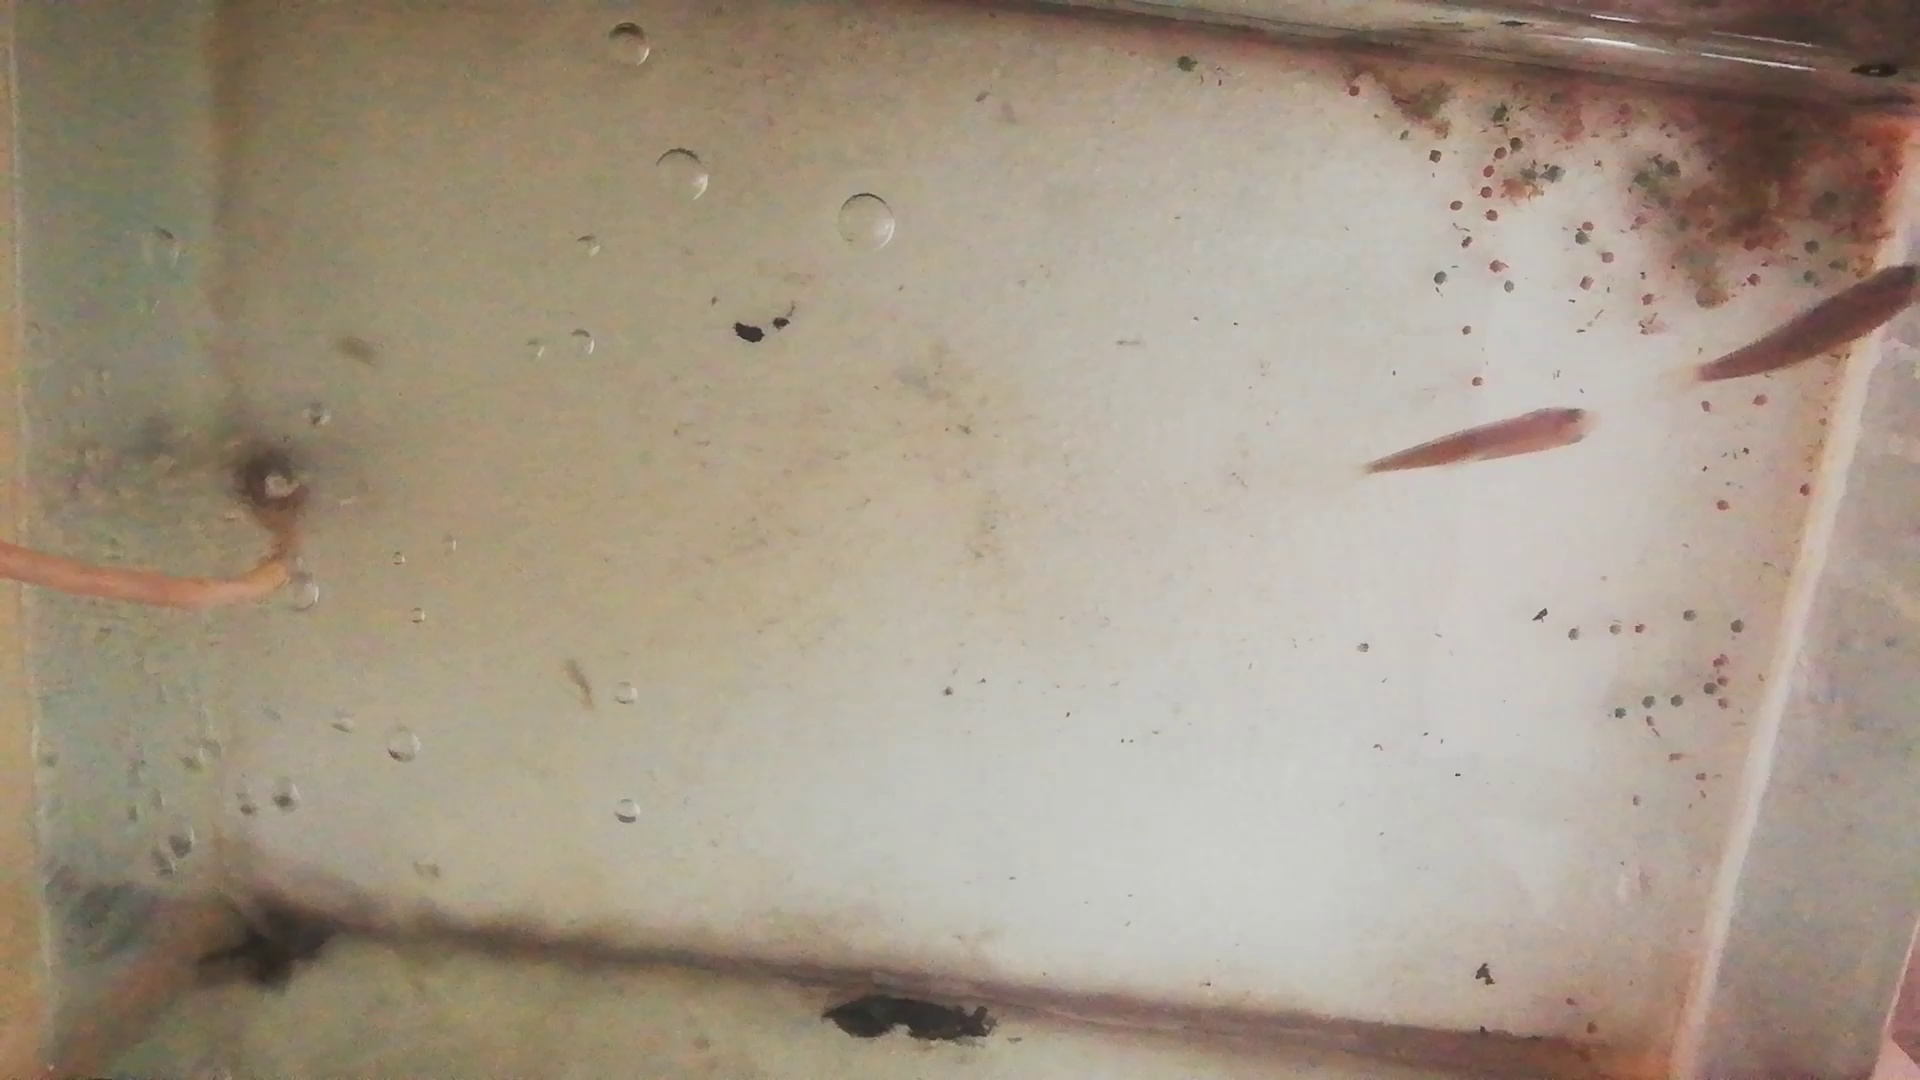fish: (1702, 258, 1920, 390), (1366, 406, 1604, 483)
